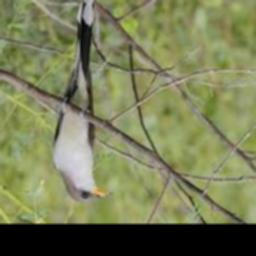Cuckoo: (52, 0, 114, 202)
